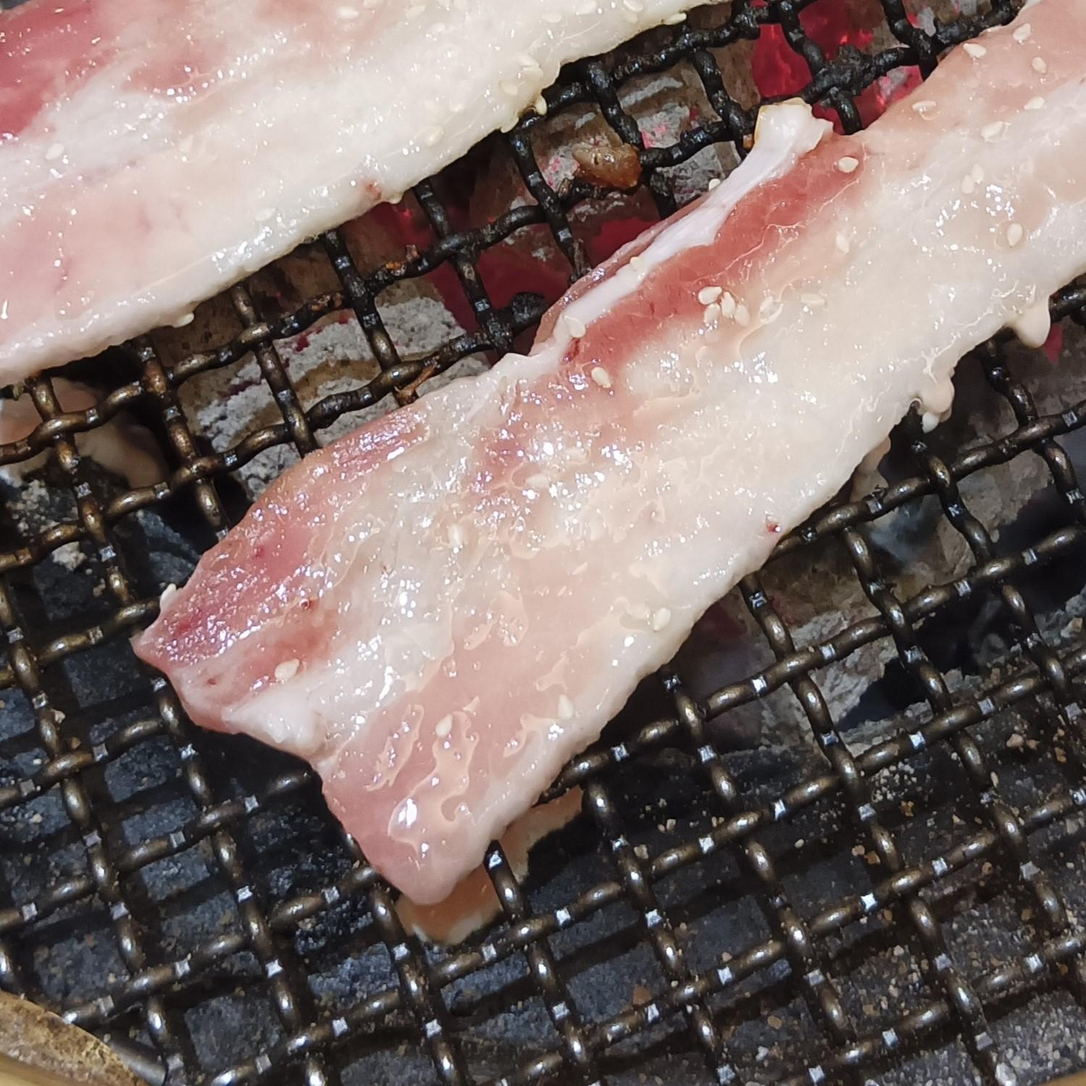Undercooked: (131, 0, 1085, 938), (0, 0, 719, 393)
